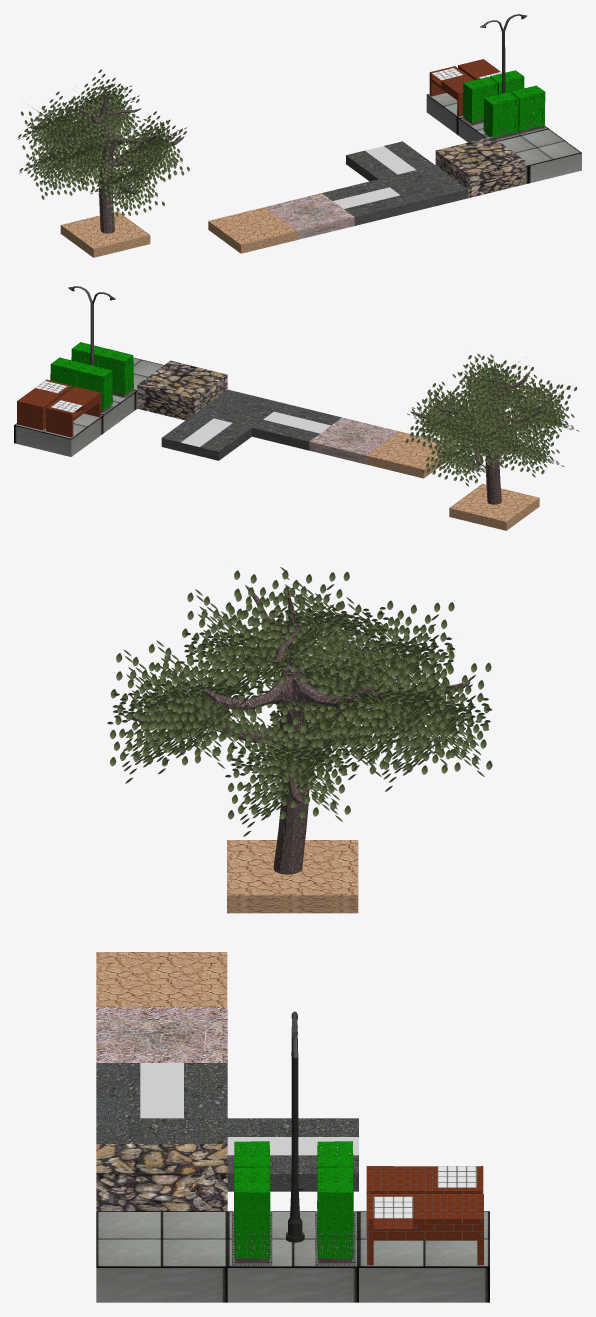
The model's file is assets.dae.
The picture shows the model from 3 angles, top to bottom: view 1: azimuth 30°, elevation 25°; view 2: azimuth 150°, elevation 25°; view 3: azimuth 270°, elevation 25°; orthographic projection. The views are drawn at different scales.
Visible parts, largest first — view 1: earth.001, street_lux.001, stone_floor, marmol_floor, earth, grill, asphalt_with_line_horizontal, asphalt, deaf_grass, asphalt_with_line_vertical; view 2: earth.001, grill, street_lux.001, stone_floor, asphalt_with_line_vertical, deaf_grass, asphalt_with_line_horizontal, earth, asphalt, marmol_floor; view 3: earth.001, street_lux.001, grill, marmol_floor, stone_floor, asphalt_with_line_horizontal, deaf_grass, earth, asphalt_with_line_vertical, asphalt.
Part boxes in pixels (x1,y1,x2,y2): earth.001: [18, 69, 189, 257]; street_lux.001: [459, 14, 548, 142]; stone_floor: [435, 136, 525, 198]; marmol_floor: [499, 129, 581, 184]; earth: [208, 207, 297, 253]; grill: [426, 59, 511, 135]; asphalt_with_line_horizontal: [322, 179, 411, 225]; asphalt: [379, 165, 468, 211]; deaf_grass: [265, 193, 354, 239]; asphalt_with_line_vertical: [346, 141, 434, 181]; earth.001: [405, 353, 579, 530]; grill: [14, 379, 104, 456]; street_lux.001: [50, 286, 137, 432]; stone_floor: [137, 360, 227, 420]; asphalt_with_line_vertical: [161, 414, 251, 460]; deaf_grass: [309, 417, 399, 464]; asphalt_with_line_horizontal: [252, 403, 341, 450]; earth: [366, 431, 456, 478]; asphalt: [195, 389, 284, 427]; marmol_floor: [132, 357, 163, 390]; earth.001: [107, 567, 492, 913]; street_lux.001: [227, 1011, 358, 1302]; grill: [359, 1166, 489, 1302]; marmol_floor: [96, 1211, 227, 1302]; stone_floor: [96, 1144, 227, 1211]; asphalt_with_line_horizontal: [96, 1063, 227, 1118]; deaf_grass: [96, 1007, 227, 1062]; earth: [96, 952, 227, 1007]; asphalt_with_line_vertical: [227, 1118, 358, 1191]; asphalt: [96, 1118, 227, 1143].
Size of the model in its own units: 17.5 by 6.15 by 5.06.
Materials: 14 (13 with a texture image).
